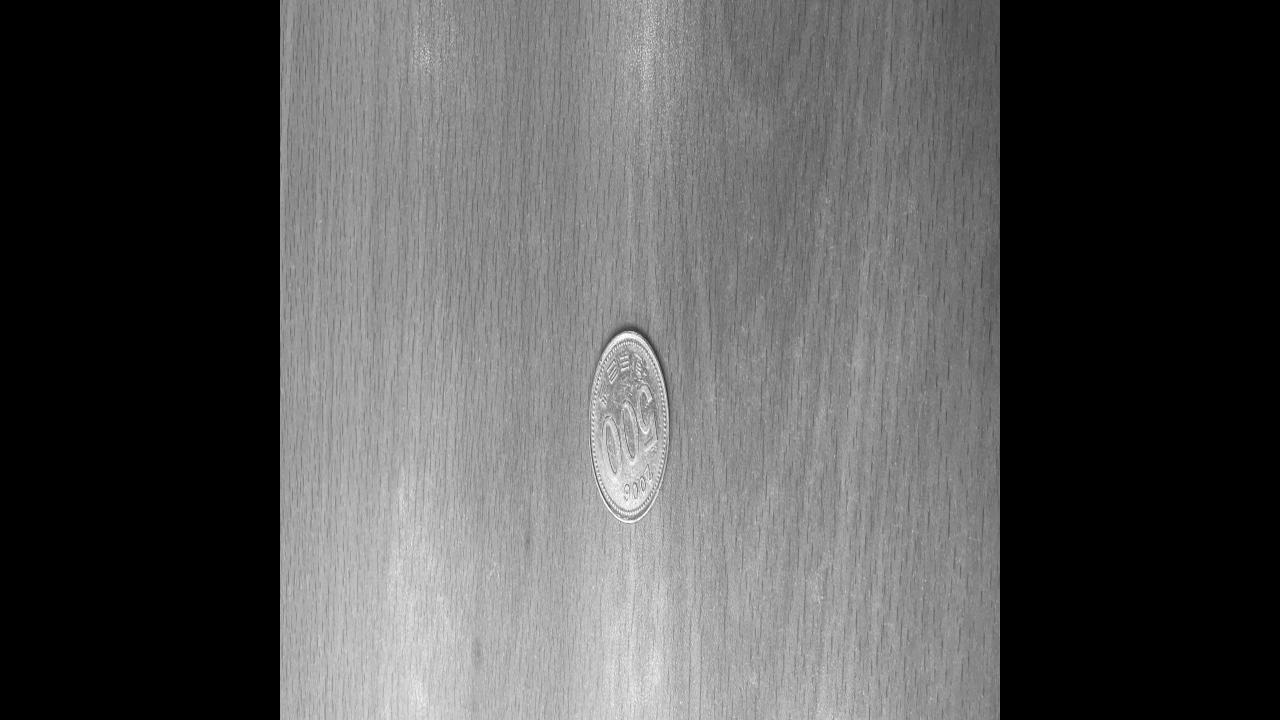coin: (586, 318, 674, 530)
